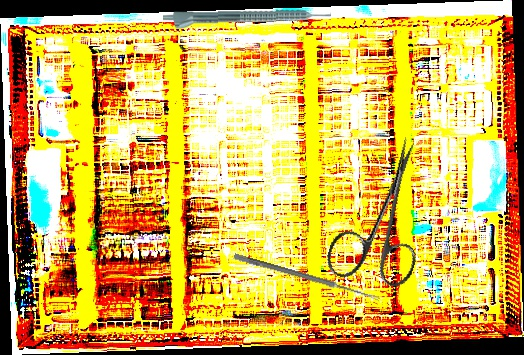Handpiece: (162, 8, 332, 32)
Iris Scissors: (322, 125, 450, 297)
Surgical Spoon: (232, 253, 382, 302)
